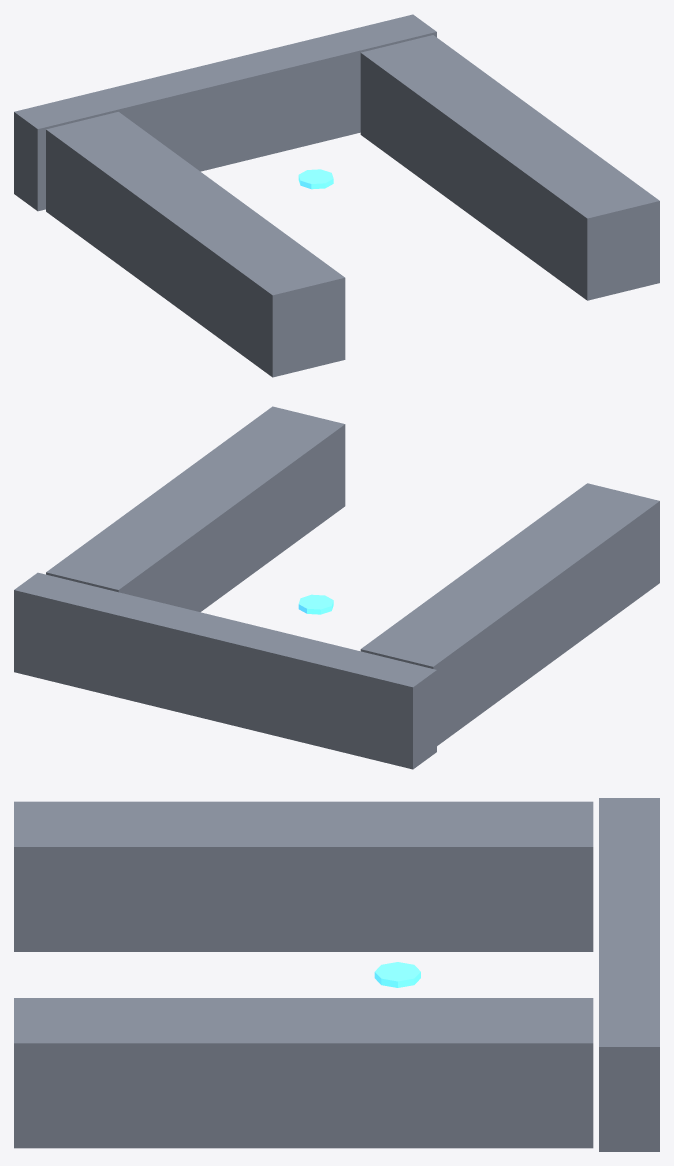
File: corridor_wall_doorway_3p946.glb
The picture shows the model from 3 angles, top to bottom: view 1: azimuth 30°, elevation 25°; view 2: azimuth 150°, elevation 25°; view 3: azimuth 270°, elevation 25°; orthographic projection. The views are drawn at different scales.
Parts seen in each view (by area): view 1: JambR, JambL, Lintel, DoorGlow; view 2: Lintel, JambL, JambR, DoorGlow; view 3: JambL, JambR, Lintel, DoorGlow.
Part boxes in pixels (left/top/right/bottom): JambR: left=360, top=35, right=659, bottom=300; JambL: left=46, top=112, right=345, bottom=377; Lintel: left=14, top=14, right=436, bottom=211; DoorGlow: left=298, top=169, right=333, bottom=189; Lintel: left=14, top=572, right=436, bottom=769; JambL: left=360, top=483, right=659, bottom=745; JambR: left=46, top=406, right=345, bottom=612; DoorGlow: left=298, top=594, right=333, bottom=614; JambL: left=14, top=801, right=593, bottom=951; JambR: left=14, top=998, right=593, bottom=1148; Lintel: left=599, top=798, right=659, bottom=1151; DoorGlow: left=374, top=962, right=420, bottom=987.
Bounding box in the file's own units: 4.07 × 0.8 × 4.46.
